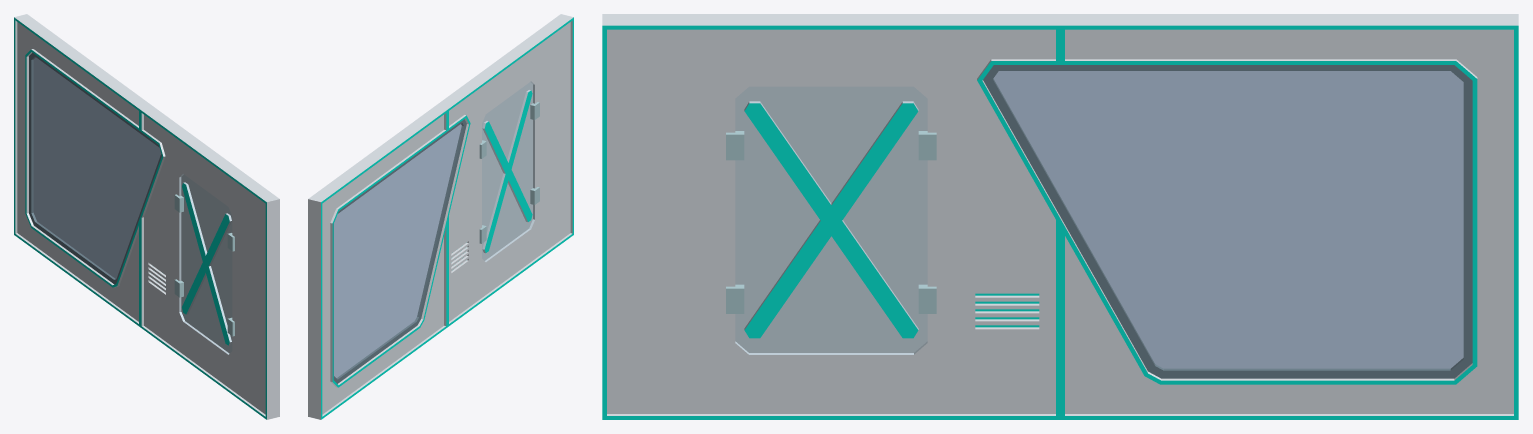
The model's file is window-05.fbx.
The picture shows the model from 3 angles, left to right: view 1: azimuth 30°, elevation 25°; view 2: azimuth 150°, elevation 25°; view 3: azimuth 270°, elevation 25°; orthographic projection. The views are drawn at different scales.
Visible parts, largest first — view 1: window-05; view 2: window-05; view 3: window-05.
Part boxes in pixels (left/top/right/bottom): window-05: left=14, top=14, right=279, bottom=419; window-05: left=308, top=14, right=573, bottom=419; window-05: left=602, top=14, right=1518, bottom=419.
Bounding box in the file's own units: 6 × 95 × 200.
